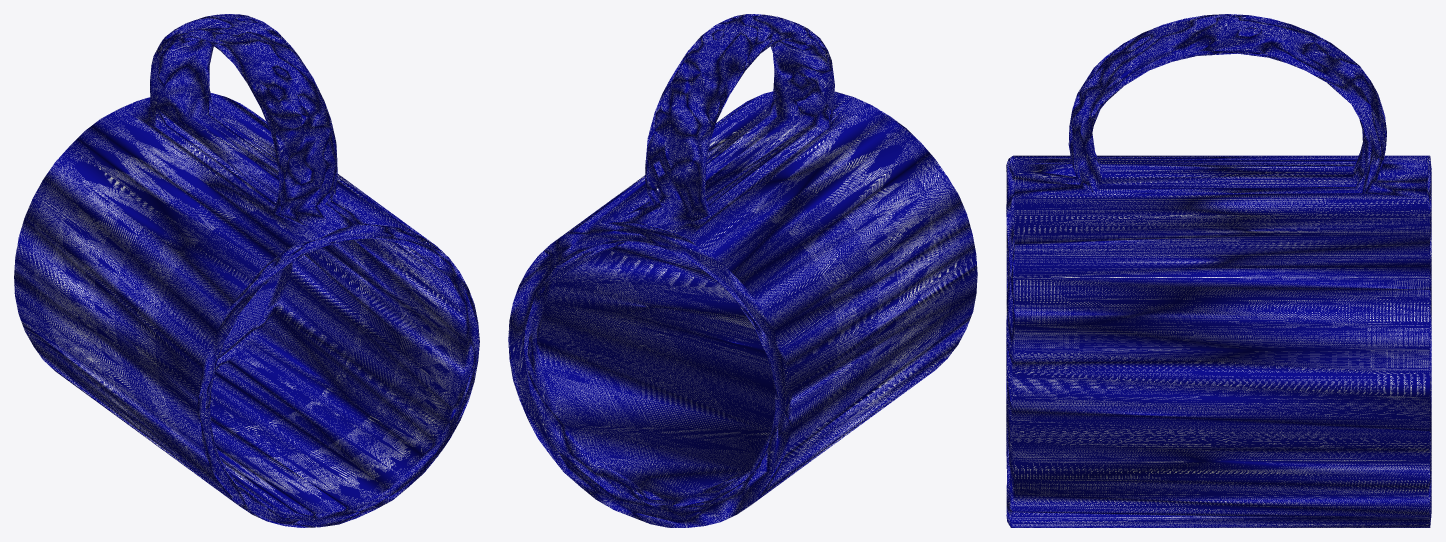
The model's file is model_align.obj.
The picture shows the model from 3 angles, left to right: view 1: azimuth 30°, elevation 25°; view 2: azimuth 150°, elevation 25°; view 3: azimuth 270°, elevation 25°; orthographic projection. The views are drawn at different scales.
Size of the model in its own units: 0.0789 by 0.1139 by 0.09.
